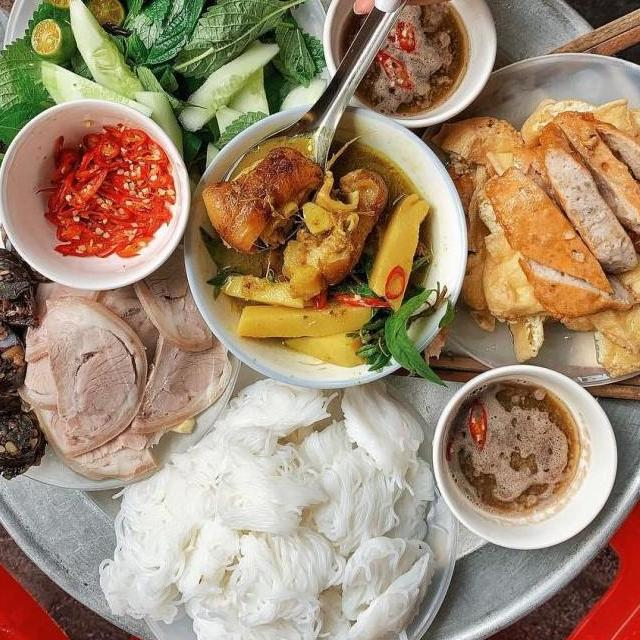bun: (91, 343, 459, 640)
bun dau: (0, 0, 640, 640)
cha com: (472, 153, 640, 330), (529, 104, 640, 277)
dau hu: (476, 218, 548, 330), (588, 300, 640, 380)
doi sun: (0, 229, 48, 492)
thit heo: (15, 232, 238, 487)
